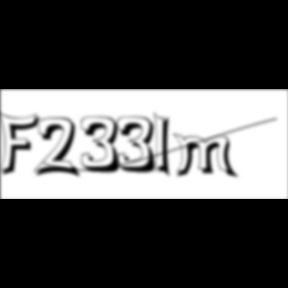2: (35, 117, 85, 181)
3: (81, 116, 127, 176), (117, 116, 163, 176)
F: (0, 110, 46, 178)
I: (154, 110, 178, 182)
m: (173, 132, 241, 181)
